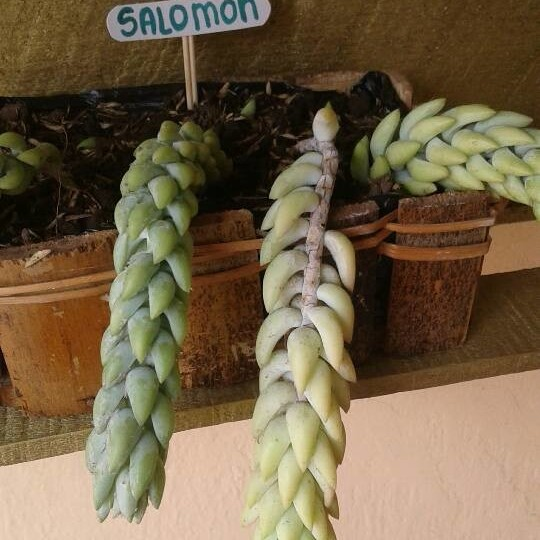obstacle: (244, 107, 372, 527), (84, 130, 213, 516)
